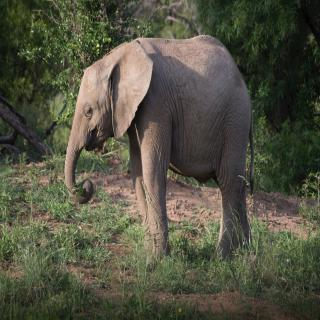Elephant: (63, 32, 262, 276)
